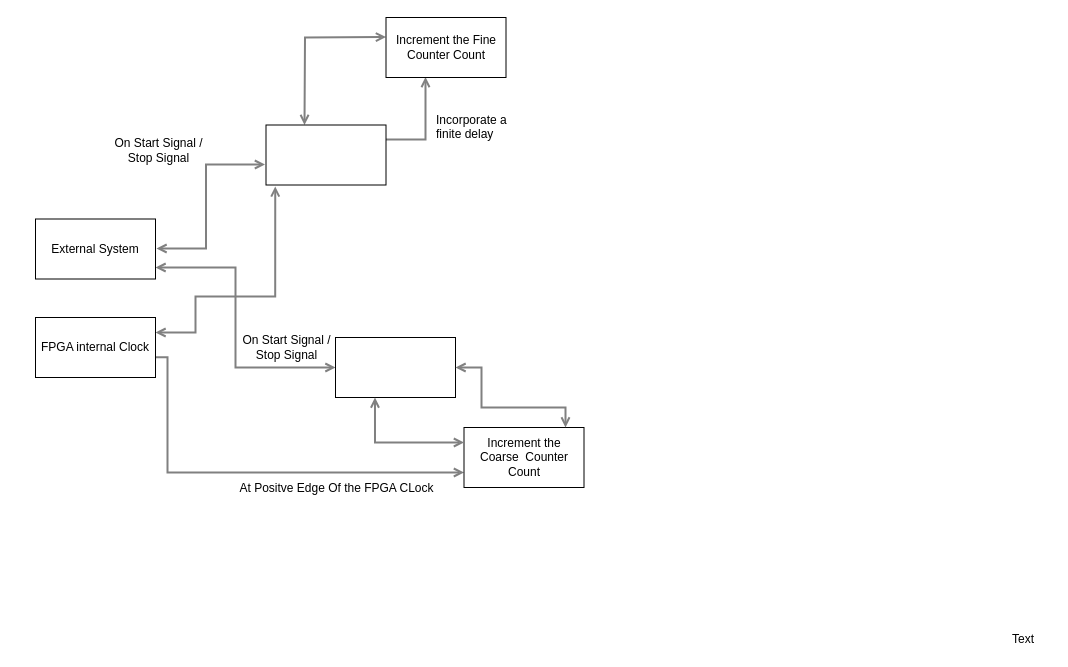
This 1068x667 diagram has some shape labels left out. The centre of each missing label's shape, as x and y in pixels:
"Coarse Counter" belongs at point (395, 367).
"Fine Counter" belongs at point (325, 154).
